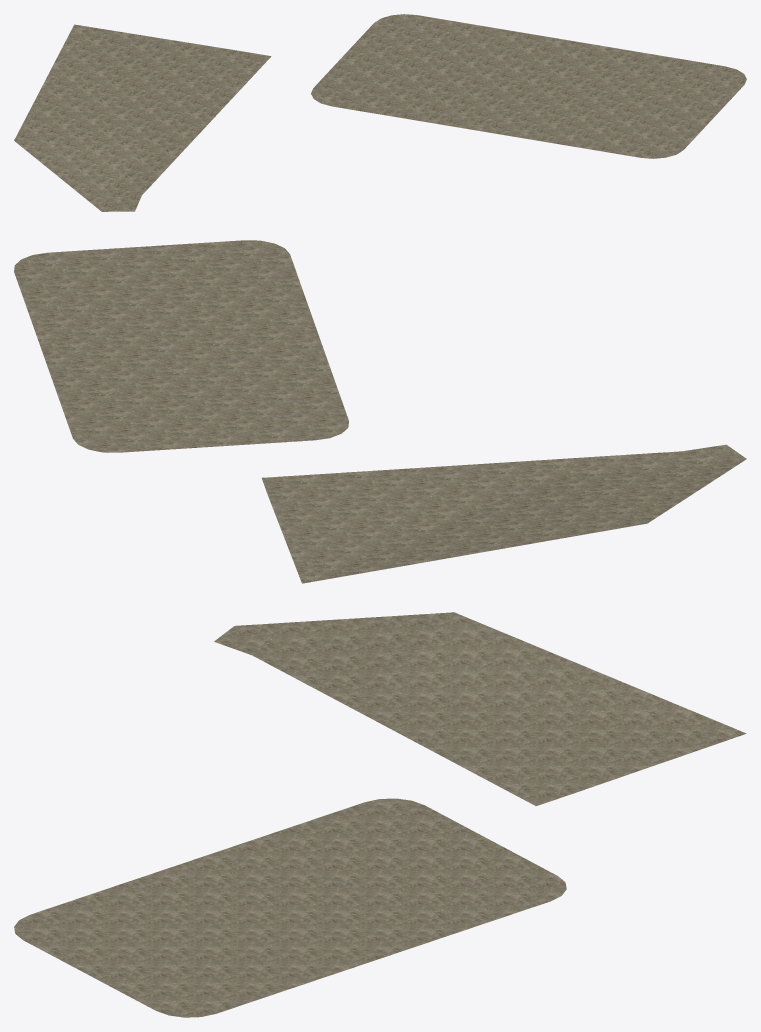
File: cs_landbit_50_a.obj
3 renders of one model, top to bottom at view 1: azimuth 30°, elevation 25°; view 2: azimuth 150°, elevation 25°; view 3: azimuth 270°, elevation 25°, orthographic. The views are drawn at different scales.
Parts seen in each view (by area): view 1: cs_landbit_50_A; view 2: cs_landbit_50_A; view 3: cs_landbit_50_A.
Part boxes in pixels (left/top/right/bottom): cs_landbit_50_A: left=14, top=14, right=746, bottom=211; cs_landbit_50_A: left=14, top=240, right=746, bottom=583; cs_landbit_50_A: left=14, top=612, right=746, bottom=1017.
Bounding box in the file's own units: 109 × 1.55 × 85.69.
1 material, 1 textured.
